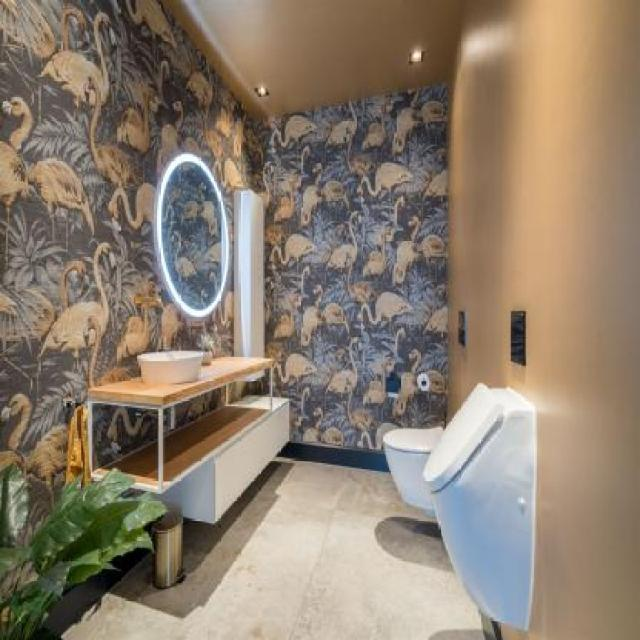floor: (63, 443, 534, 640)
